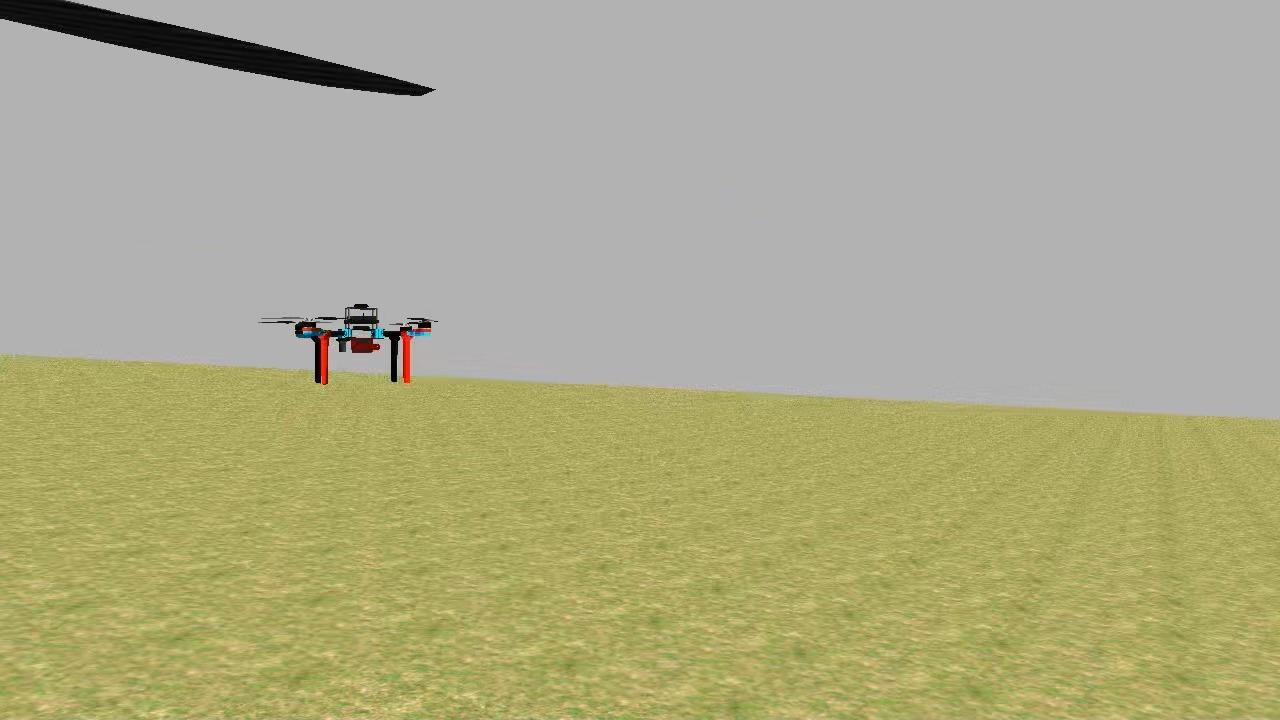UAV: (286, 294, 440, 397)
